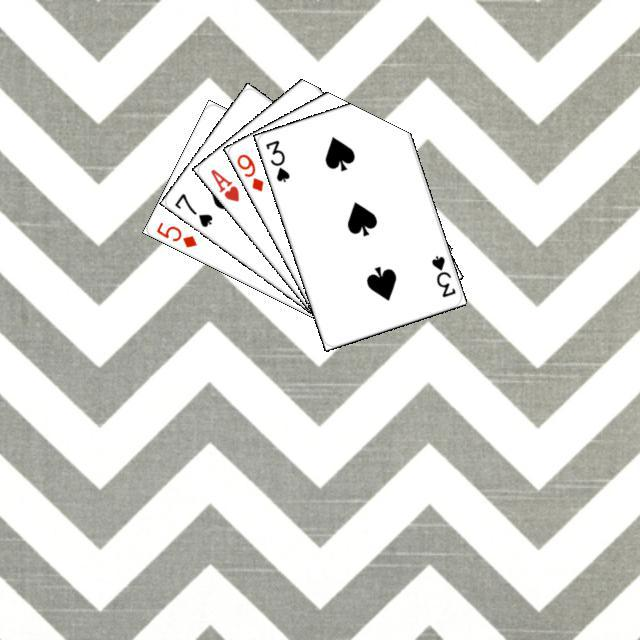3s: (261, 135, 292, 184), (427, 250, 457, 299)
5d: (152, 217, 198, 250)
7s: (169, 188, 214, 229)
9d: (232, 149, 265, 193)
Ah: (205, 164, 241, 203)
